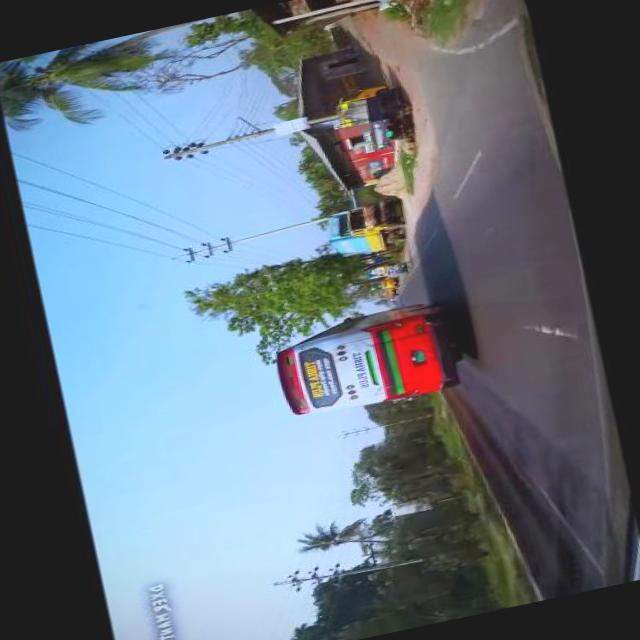bus: (266, 296, 459, 420)
truck: (329, 78, 416, 154), (319, 194, 405, 258), (378, 274, 396, 286), (383, 286, 394, 295)
